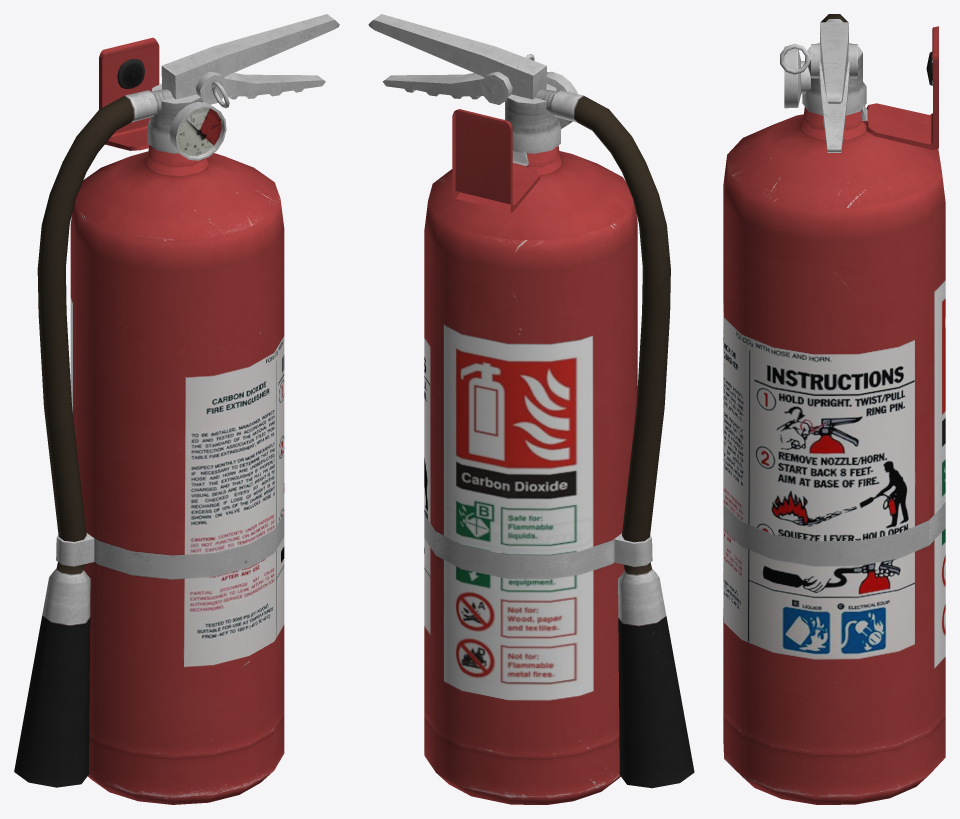
The model's file is SM_Fire_Extinguisher_01a.fbx.
The picture shows the model from 3 angles, left to right: view 1: azimuth 30°, elevation 25°; view 2: azimuth 150°, elevation 25°; view 3: azimuth 270°, elevation 25°; orthographic projection. The views are drawn at different scales.
Visible parts, largest first — view 1: SM_Fire_Extinguisher_01a_LOD0; view 2: SM_Fire_Extinguisher_01a_LOD0; view 3: SM_Fire_Extinguisher_01a_LOD0.
Part boxes in pixels (box(x1,y1,x2,y2)): SM_Fire_Extinguisher_01a_LOD0: box(14, 14, 339, 804); SM_Fire_Extinguisher_01a_LOD0: box(368, 14, 694, 804); SM_Fire_Extinguisher_01a_LOD0: box(723, 14, 945, 804).
Bounding box in the file's own units: 27.22 × 15.73 × 58.73.
1 material, 1 textured.
